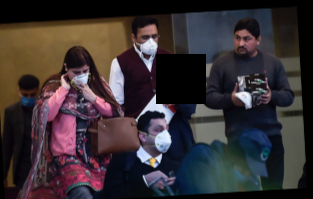with_mask: (145, 122, 171, 152), (133, 30, 158, 54), (66, 66, 91, 86), (19, 90, 38, 107)
without_mask: (232, 31, 257, 56)
